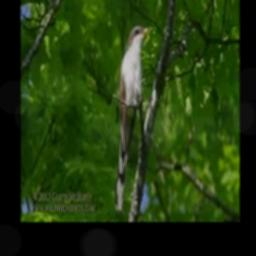Cuckoo: (115, 26, 147, 211)
